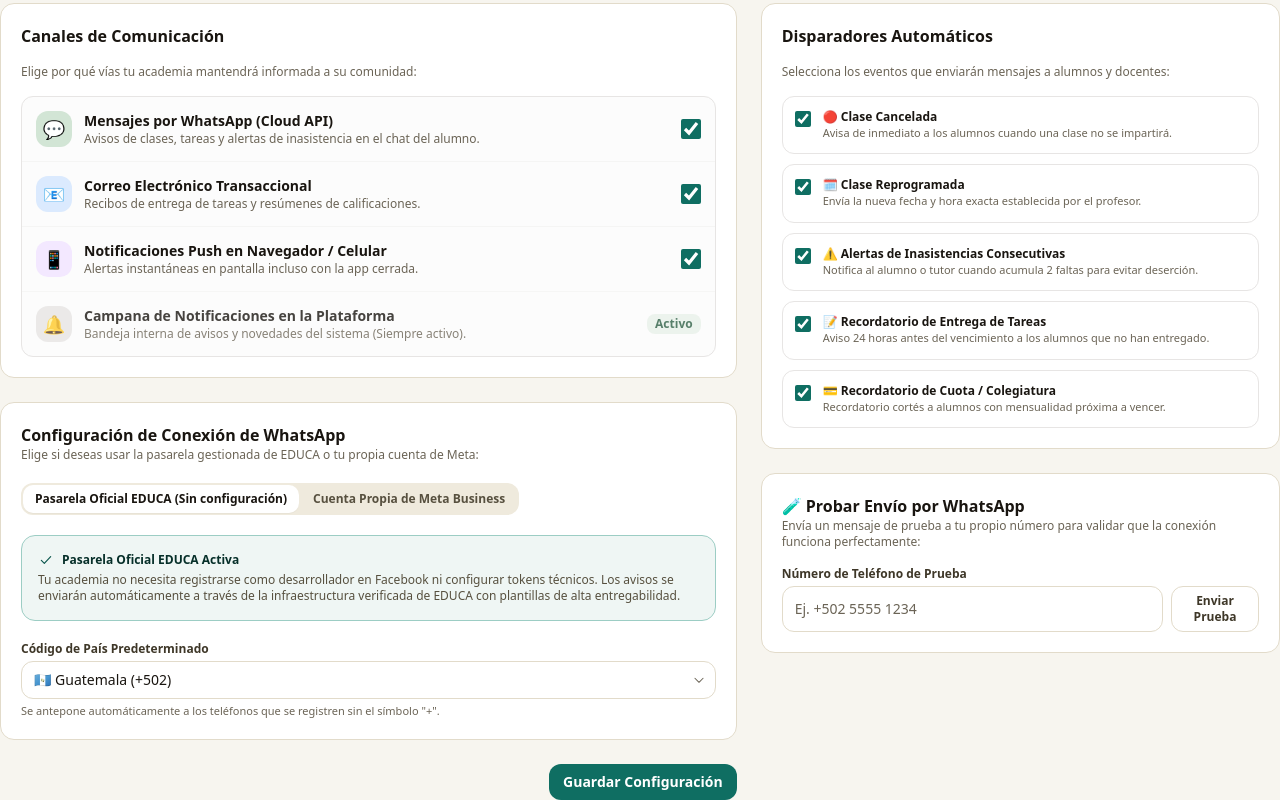
Scenario: NotificationSettingsPanel › sends a live WhatsApp test message and shows feedback
(page scrolled)
In the field with placeholder "Ej. +502 5555 1234": coordinates (972, 609) [782,586,1163,632], type "55551234"
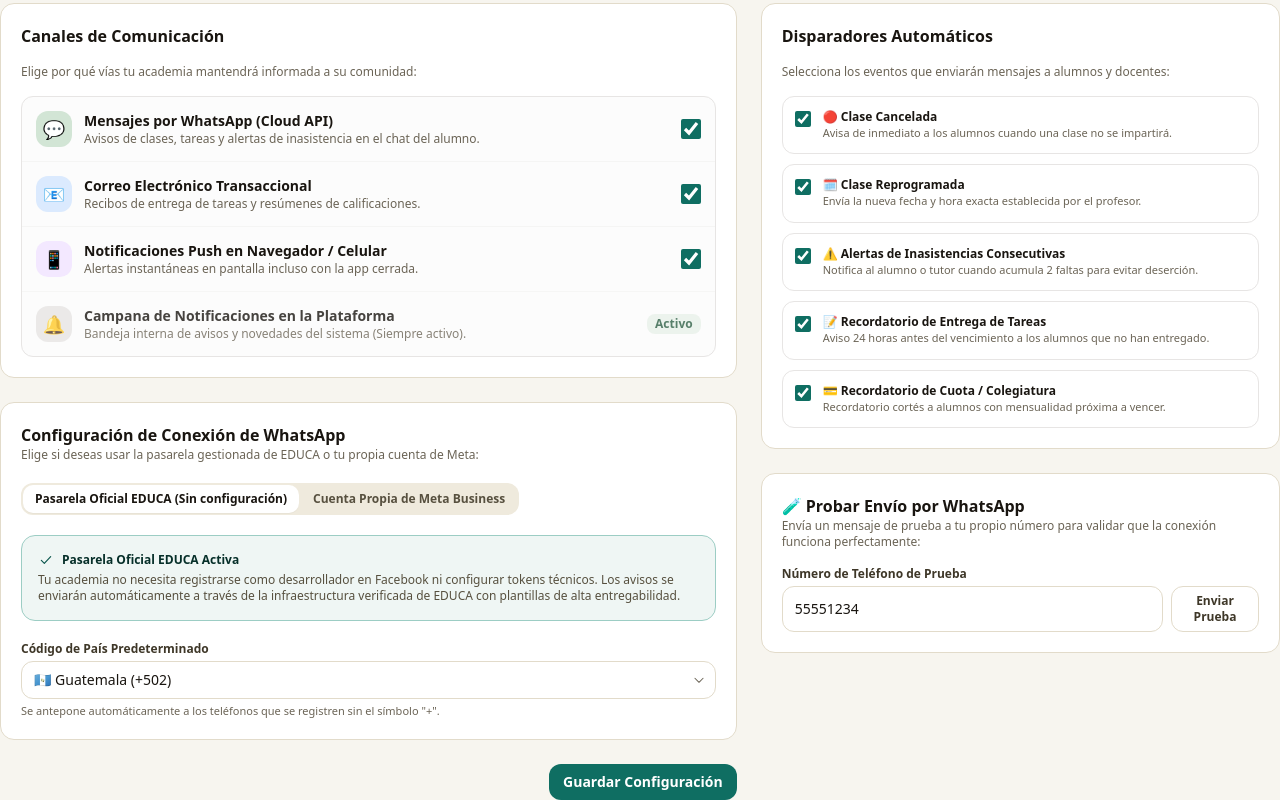
Click the button "Enviar Prueba": coordinates (1215, 609) [1171,586,1259,632]
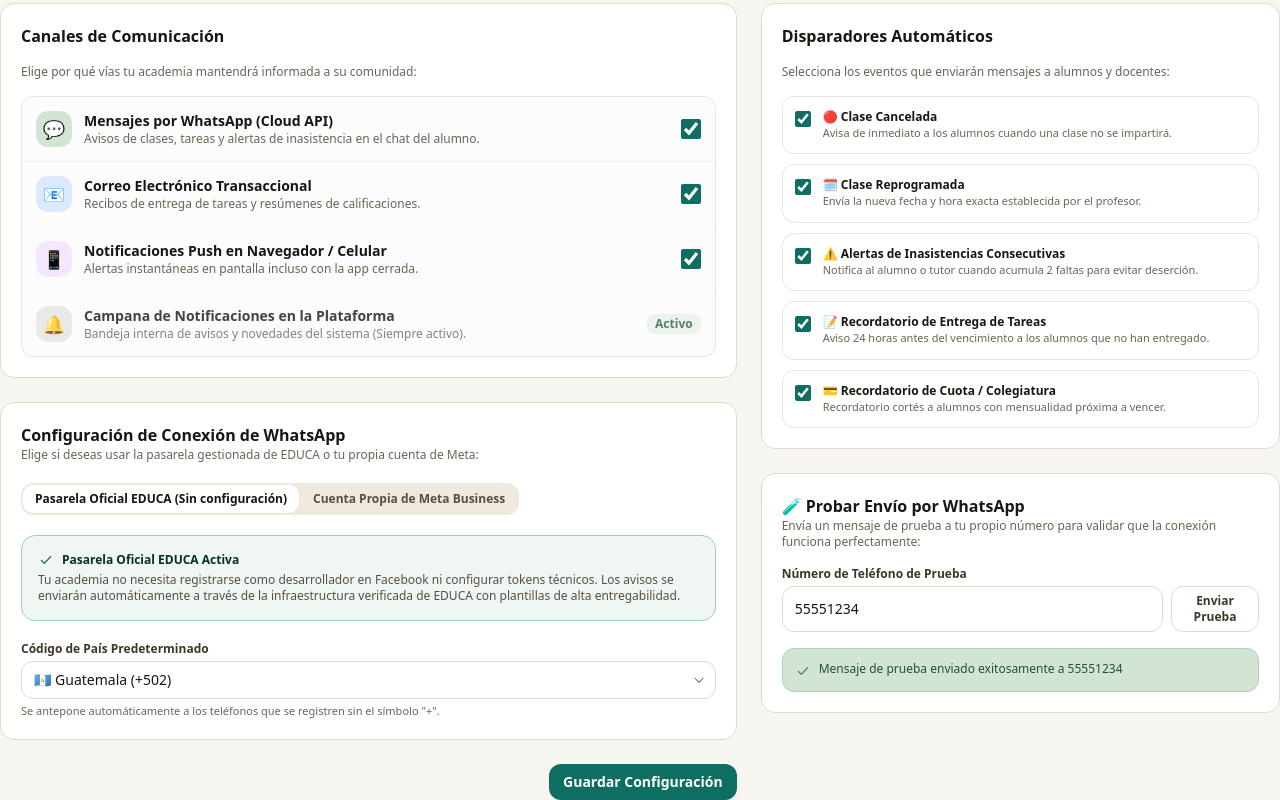
expect the text "Mensaje de prueba enviado exitosamente a 55551234" is shown: met, box [819,661,1123,677]
